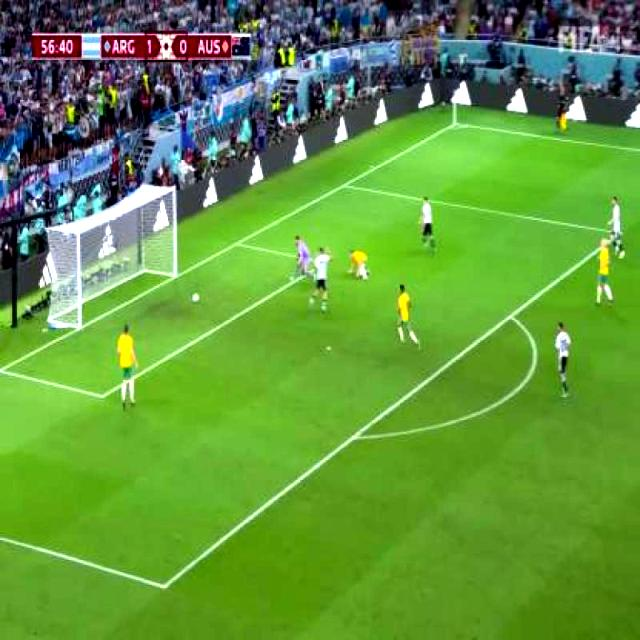bigarea_bottom_inner: (155, 568, 175, 606)
bigarea_top_outter: (340, 176, 350, 194)
bottom_arc_area_intersection: (348, 426, 362, 448)
corner: (451, 120, 464, 134)
smallarea_bottom_inner: (97, 388, 111, 404)
smallarea_top_outter: (230, 234, 245, 254)
top_arc_area_intersection: (504, 302, 519, 328)
